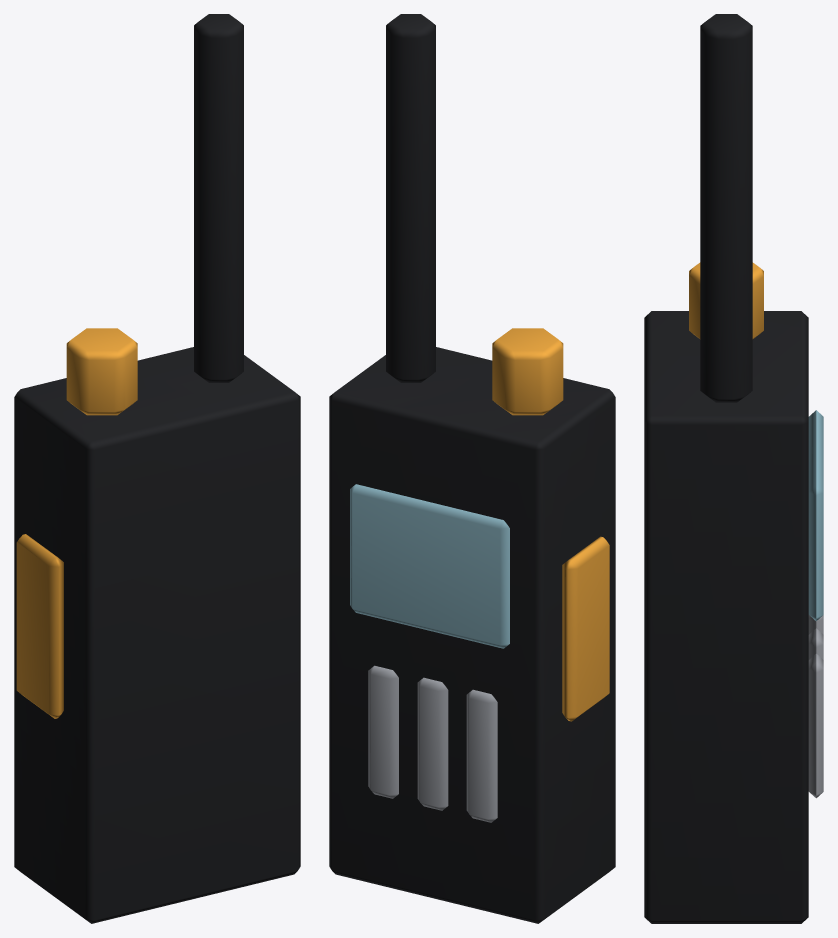
The model's file is radio_handset.glb.
3 views of the same model, side by side, from view 1: azimuth 30°, elevation 25°; view 2: azimuth 150°, elevation 25°; view 3: azimuth 270°, elevation 25° (orthographic). The views are drawn at different scales.
Parts seen in each view (by area): view 1: Body; view 2: Body; view 3: Body.
Boxes of the visible parts, bbox=[...] form: Body: bbox=[14, 14, 300, 923]; Body: bbox=[329, 14, 615, 923]; Body: bbox=[644, 14, 823, 923].
Size of the model in its own units: 0.075 by 0.26 by 0.048.
1 material, 1 textured.
